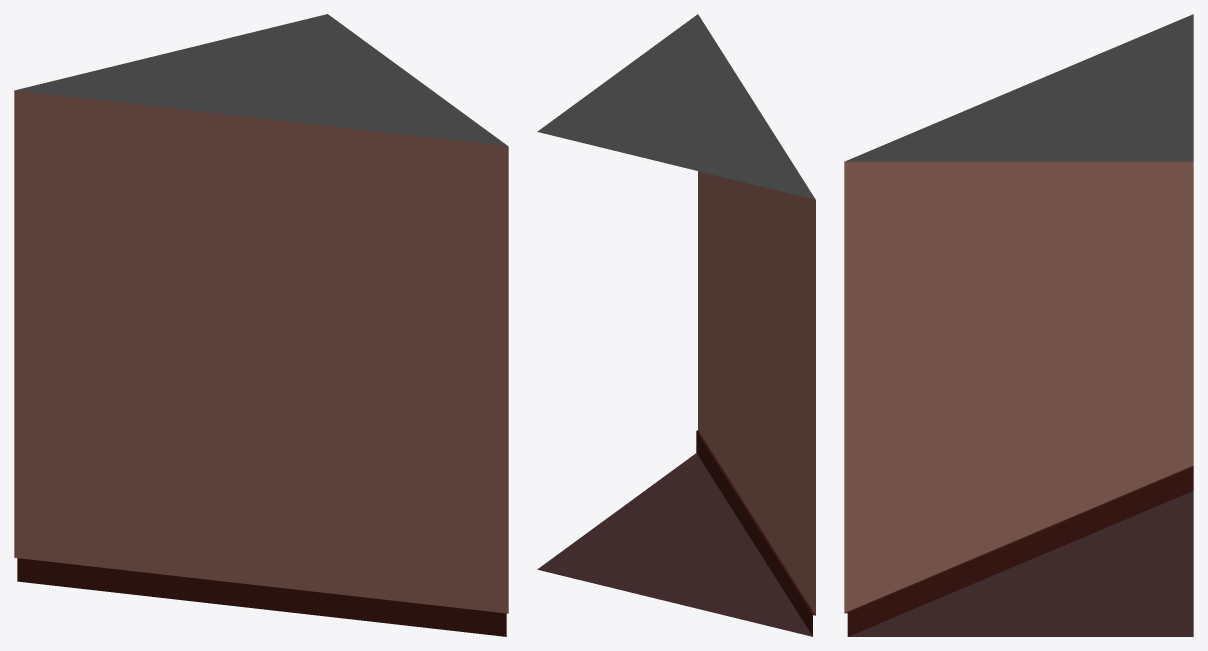
Rendered from Tile_011.fbx.
3 renders of one model, left to right at view 1: azimuth 30°, elevation 25°; view 2: azimuth 150°, elevation 25°; view 3: azimuth 270°, elevation 25°, orthographic. The views are drawn at different scales.
Parts seen in each view (by area): view 1: Tile_011; view 2: Tile_011; view 3: Tile_011.
Boxes of the visible parts, x1,y1,x2,y2 form: Tile_011: [14, 14, 508, 636]; Tile_011: [537, 14, 815, 636]; Tile_011: [844, 14, 1193, 636].
Size of the model in its own units: 200 by 300 by 200.
